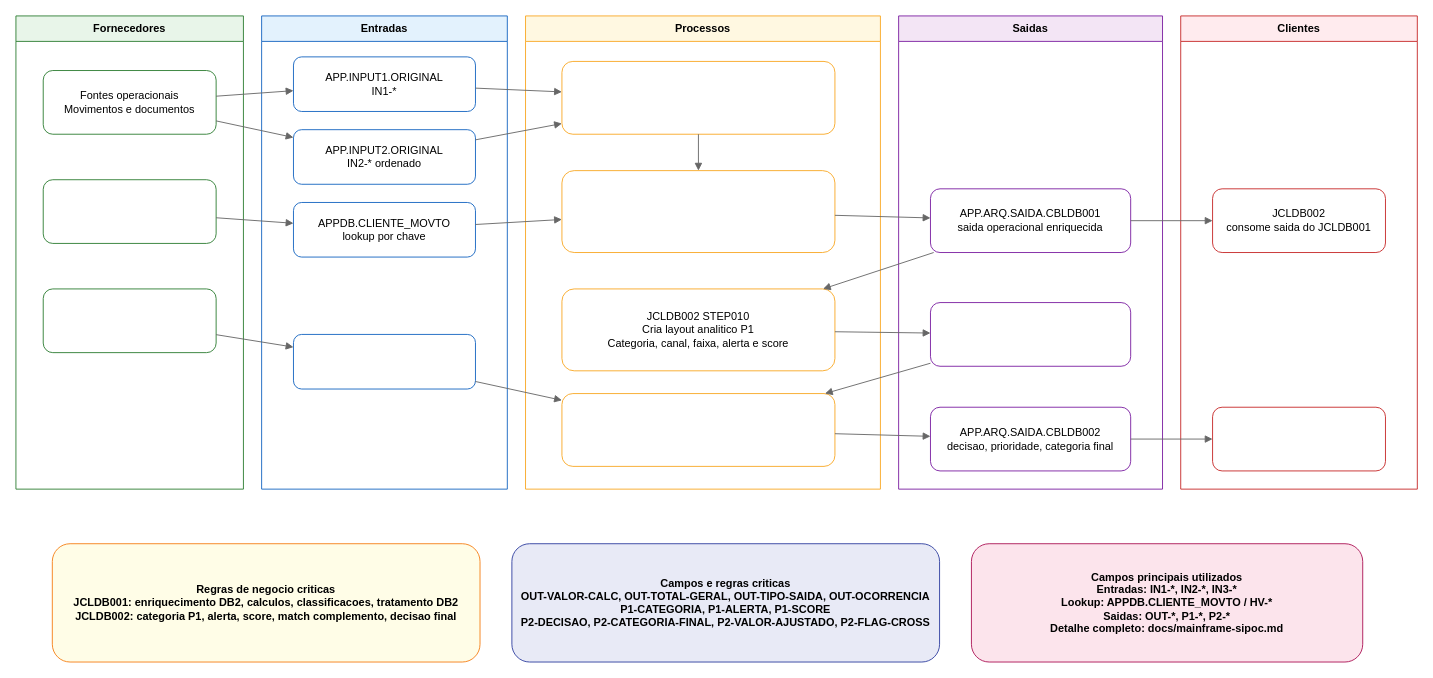
The diagram is 1433 pixels wide and 678 high, and some of its shapes have lost their labels. The shapes that lost their labels are listed below. From the top down, each one's centre as x and y in pixels, then its label:
point 698,97: JCLDB001 STEP010 copia INPUT1 STEP020 ordena INPUT2
point 129,211: Cadastro corporativo APPDB.CLIENTE_MOVTO
point 698,211: JCLDB001 STEP030/040 Enriquece no DB2 Calcula, classifica e carimba
point 129,320: Complemento cadastral INPUT3
point 1030,334: &&TMPDB201 layout analitico P1
point 384,361: APP.INPUT3.COMPLEMENTO IN3-*
point 698,429: JCLDB002 STEP020 Cruza complemento Define decisao final
point 1298,438: Consumidor downstream arquivo final CBLDB002
